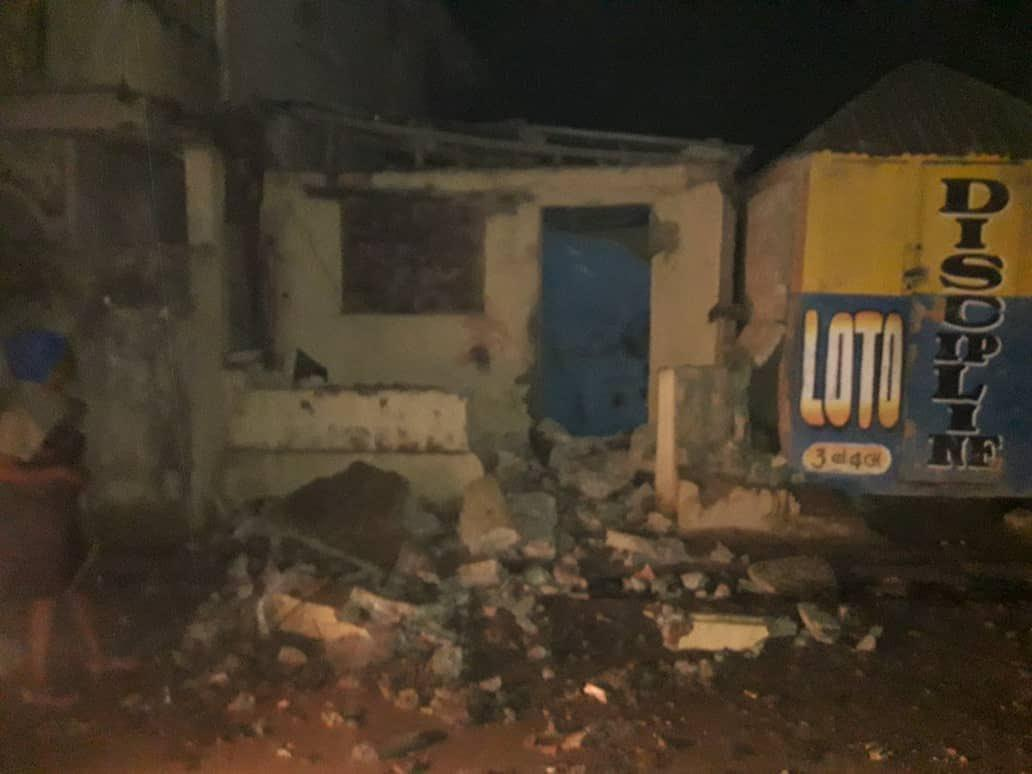victim: (0, 320, 144, 722)
